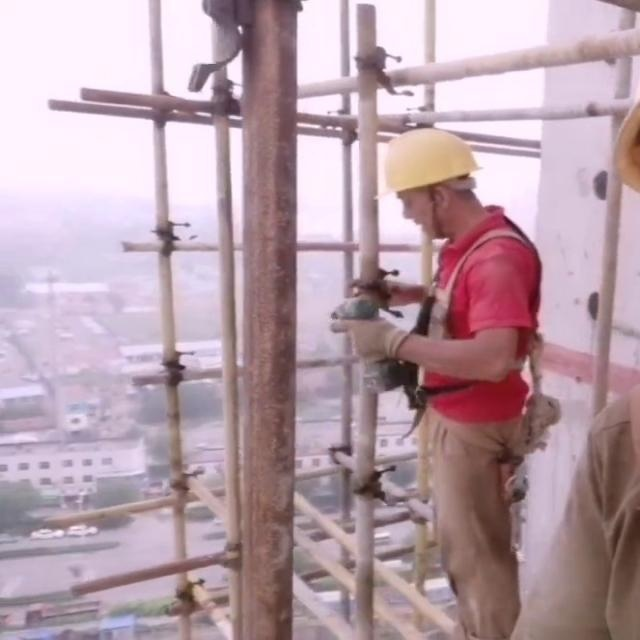Arnes_seguridad: (412, 203, 556, 376)
